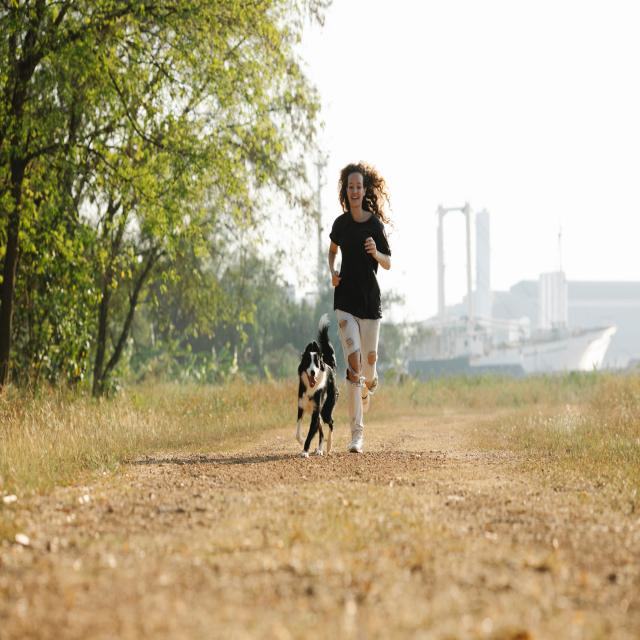running: (327, 162, 394, 456)
